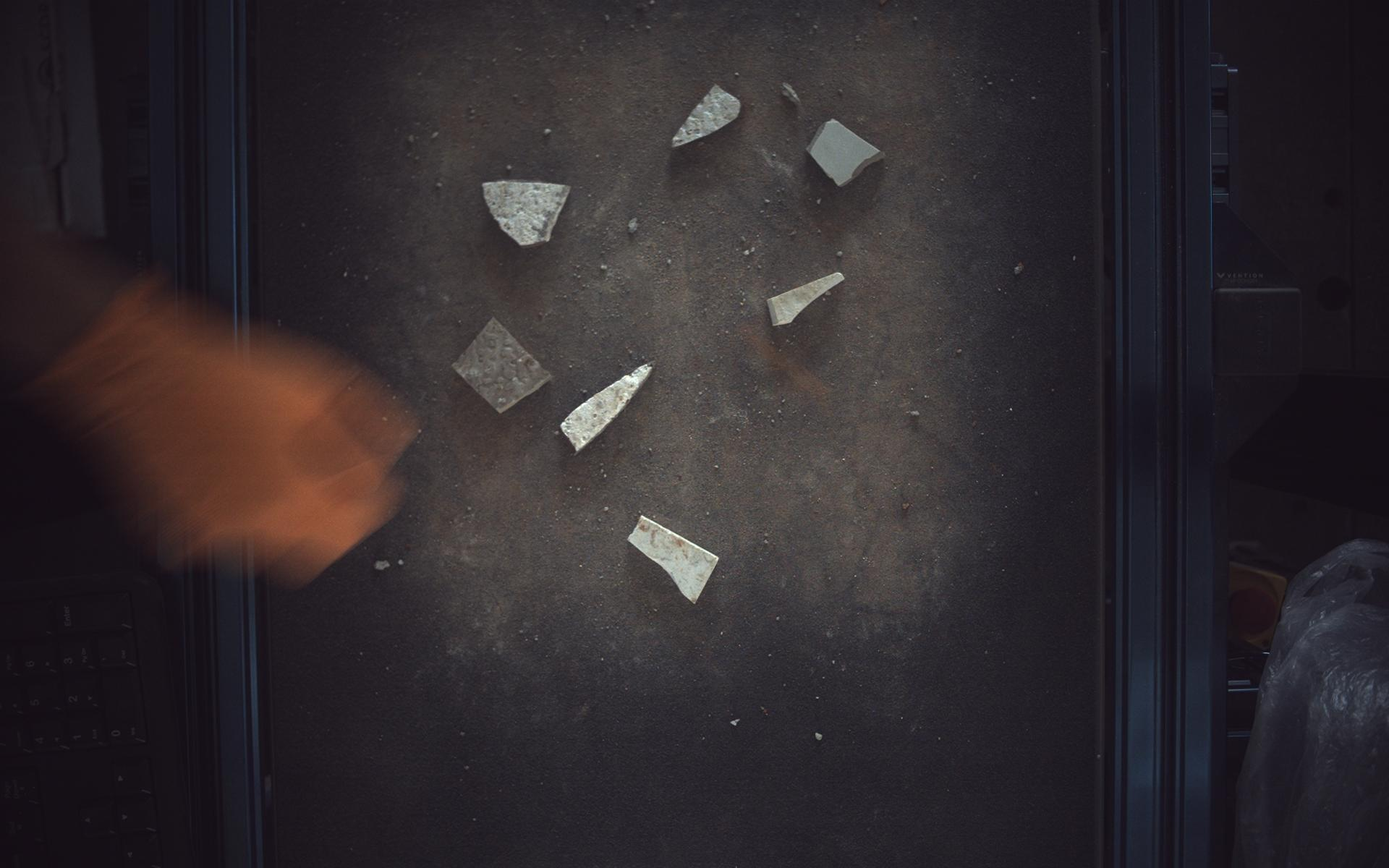tile: (452, 318, 553, 413), (562, 364, 653, 452), (629, 516, 719, 603), (484, 180, 571, 245), (808, 118, 886, 185), (673, 84, 742, 147), (768, 271, 846, 326)
